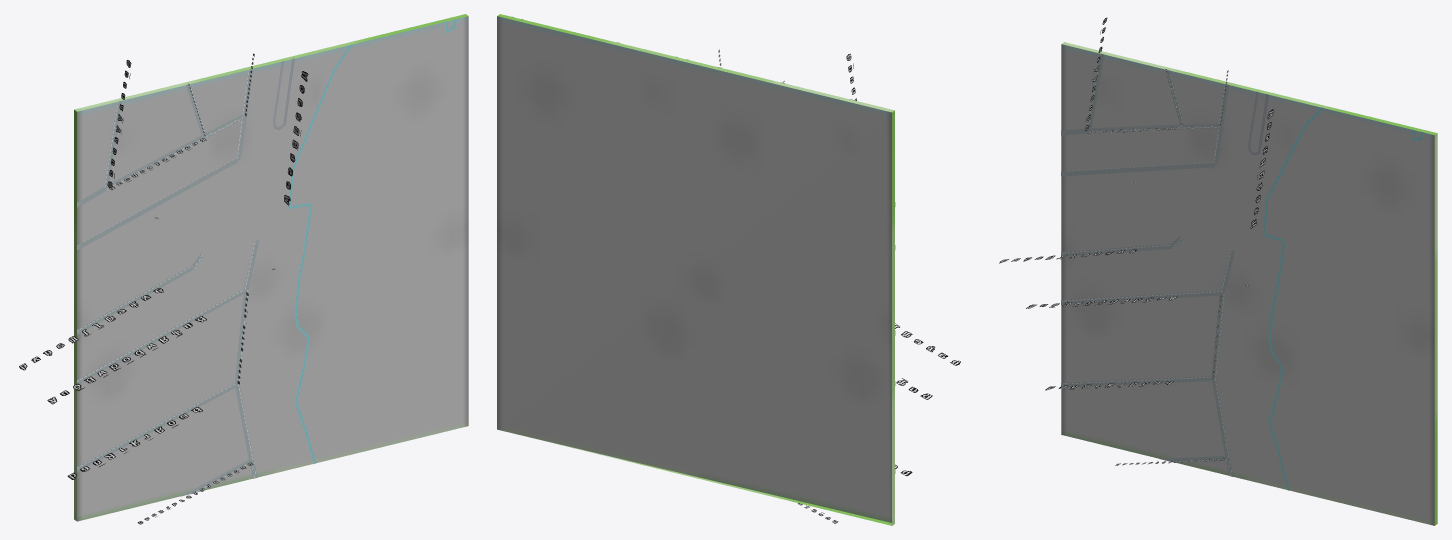
3 renders of one model, left to right at view 1: azimuth 30°, elevation 25°; view 2: azimuth 150°, elevation 25°; view 3: azimuth 330°, elevation 25°, orthographic. The views are drawn at different scales.
Parts seen in each view (by area): view 1: POLYGON, POLYLINE, FONT; view 2: POLYGON, FONT; view 3: POLYGON, POLYLINE, FONT.
Boxes of the visible parts, <box> form: POLYGON: <box>74,14,468,521</box>; POLYLINE: <box>77,19,456,496</box>; FONT: <box>19,53,308,524</box>; POLYGON: <box>497,14,894,525</box>; FONT: <box>718,49,960,523</box>; POLYGON: <box>1061,42,1437,525</box>; POLYLINE: <box>1061,53,1423,490</box>; FONT: <box>999,17,1273,465</box>.
Bounding box in the file's own units: 709 × 699 × 29.
Materials: 3 (3 with a texture image).
